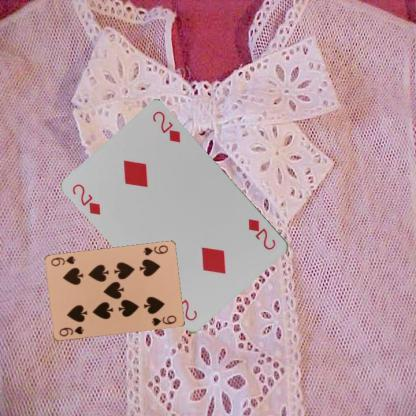2d: (70, 181, 102, 217), (246, 216, 278, 251)
9s: (140, 243, 169, 257), (57, 324, 84, 338)
